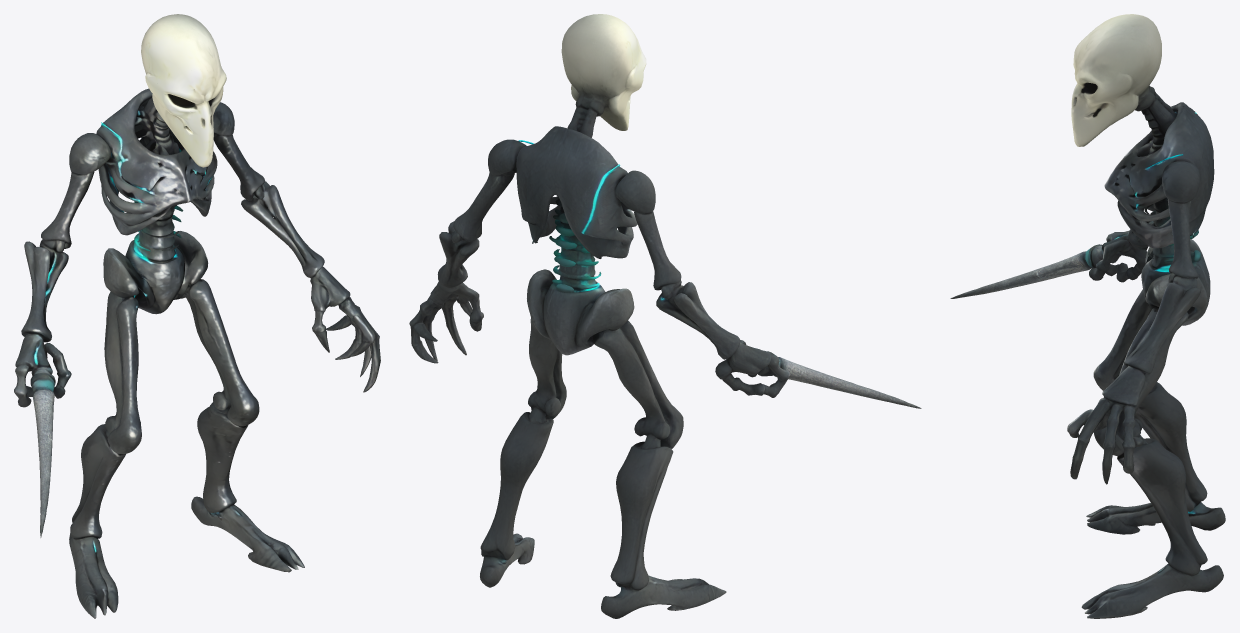
File: enemy_needle_scribe.glb
3 views of the same model, side by side, from view 1: azimuth 30°, elevation 25°; view 2: azimuth 150°, elevation 25°; view 3: azimuth 270°, elevation 25° (orthographic). The views are drawn at different scales.
Visible parts, largest first — view 1: model; view 2: model; view 3: model.
Boxes of the visible parts, <box> form: model: <box>14,14,380,618</box>; model: <box>409,14,921,618</box>; model: <box>950,14,1225,618</box>.
Bounding box in the file's own units: 1.47 × 1.9 × 0.8616.
Materials: 1 (1 with a texture image).
